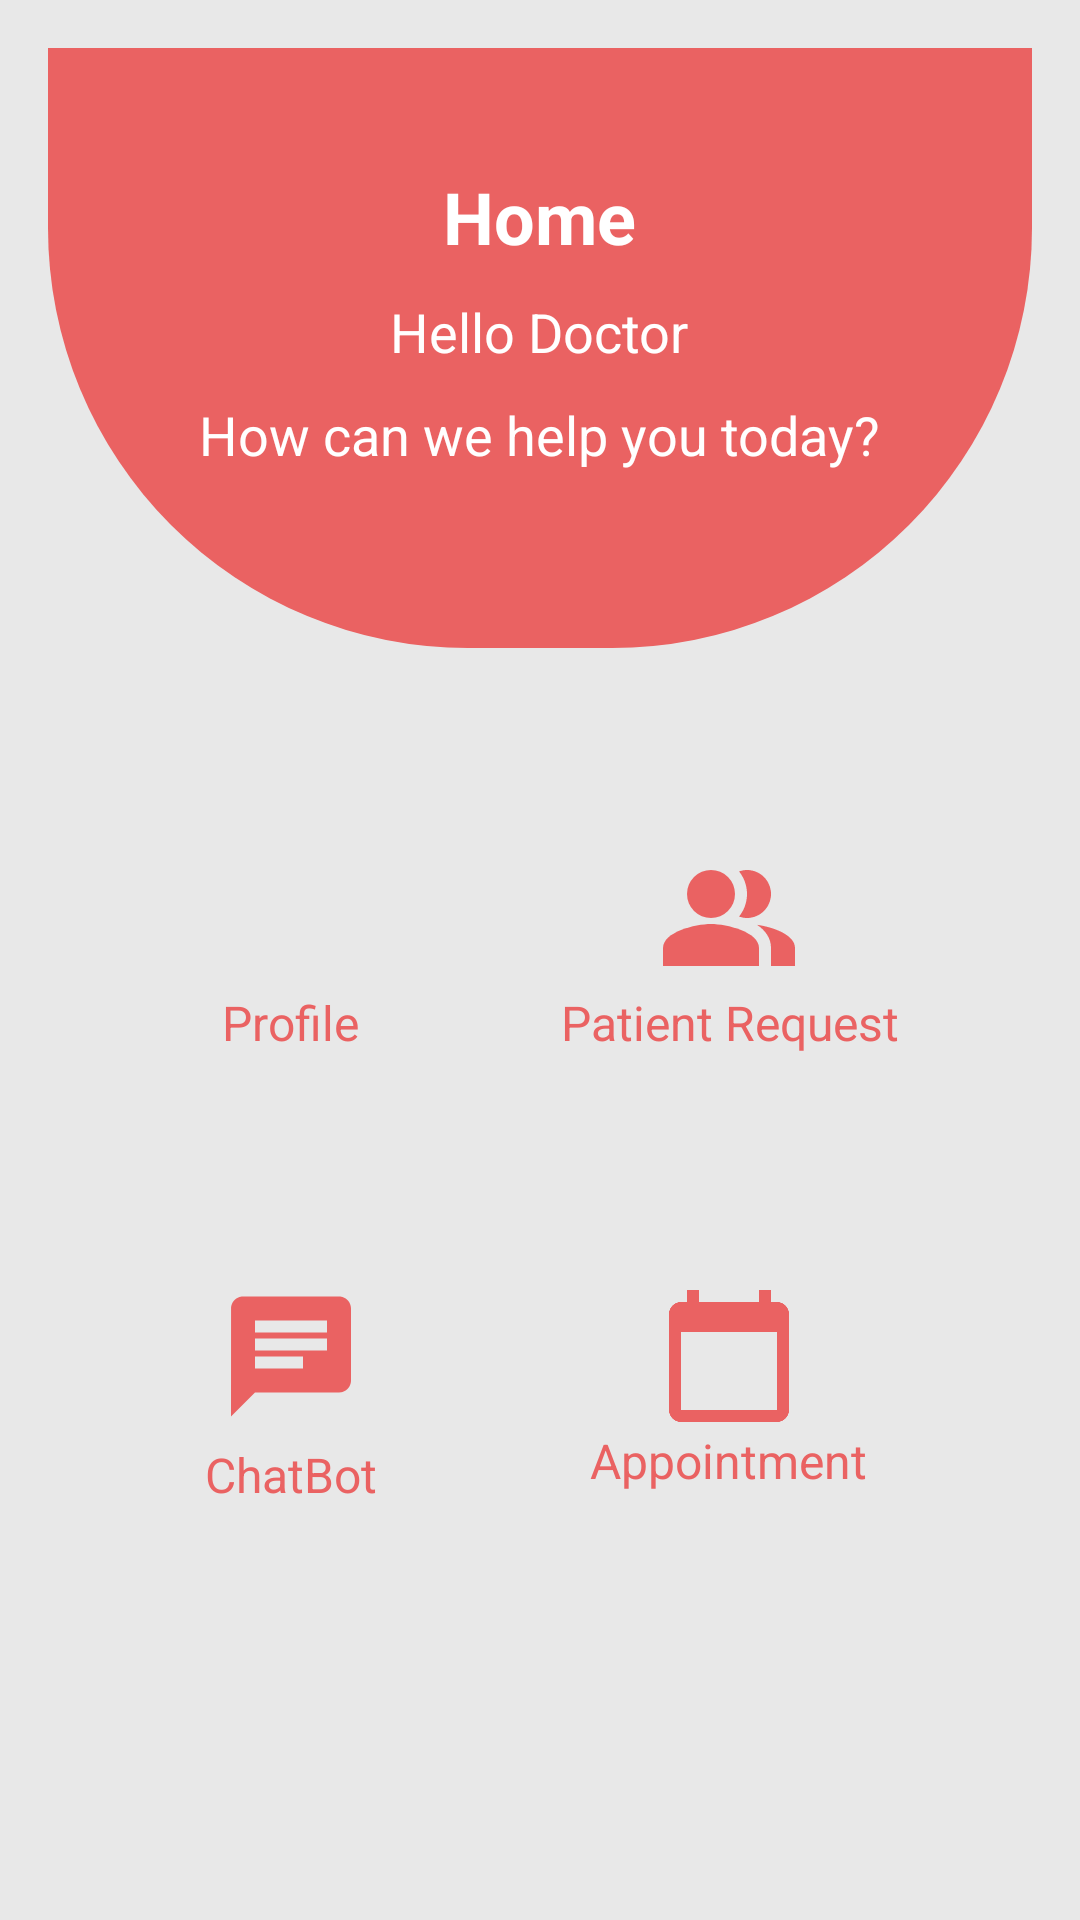

Screen size 1080 × 1920. Icon name, then its box in pixels as (x1, y1, x2, y2):
calendar today: (669, 1290, 789, 1422)
people: (663, 870, 795, 966)
